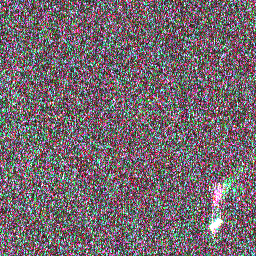ship: (206, 214, 225, 234)
